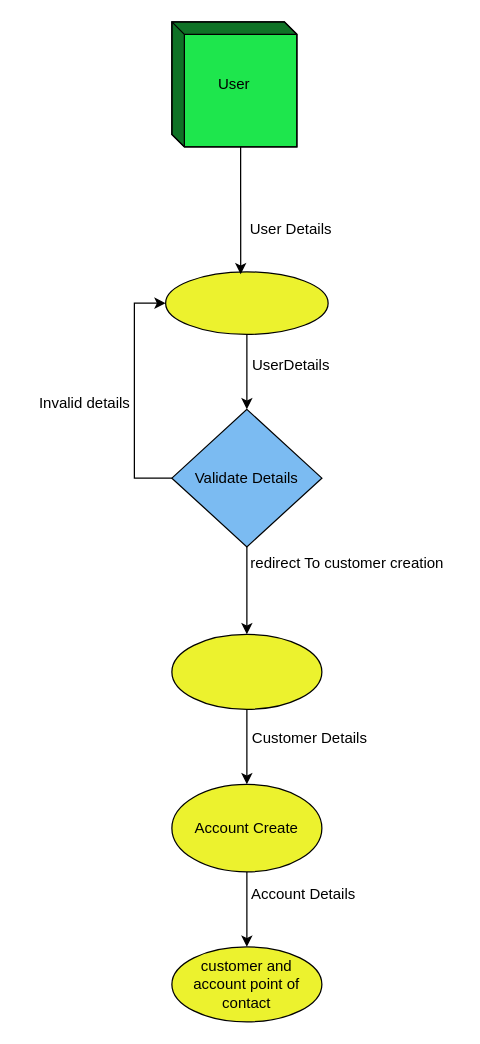
The diagram is 480 pixels wide and 1044 high, and some of its shapes have lost their labels. The centre of each missing label's shape, as x and y in pixels:
"Create Customer" belongs at point (246, 671).
"Register" belongs at point (246, 302).
